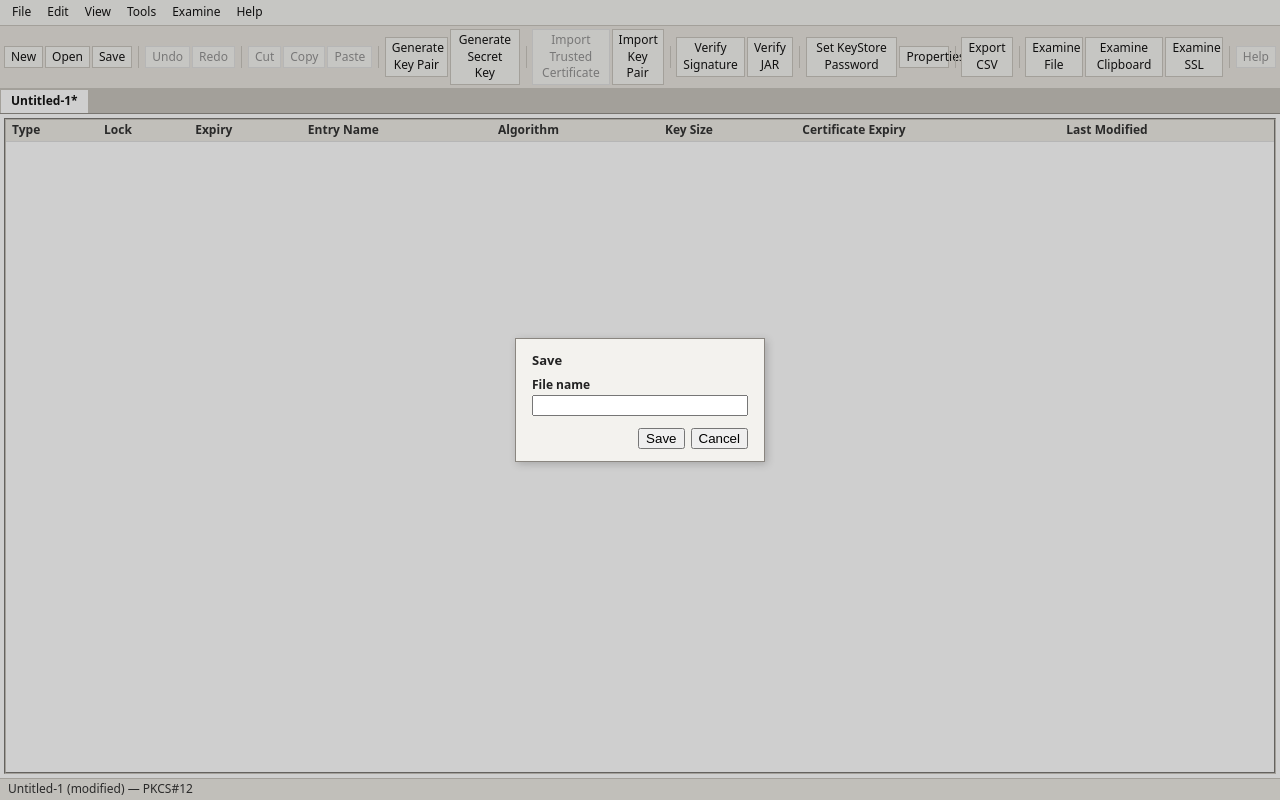
Test: builtin dialog clicks › saves from File → Save As via the Save and New Password buttons
In the field with test id "dialog.file-save.path": (640, 406) 532,396 -> 748,416, type "demo.p12"
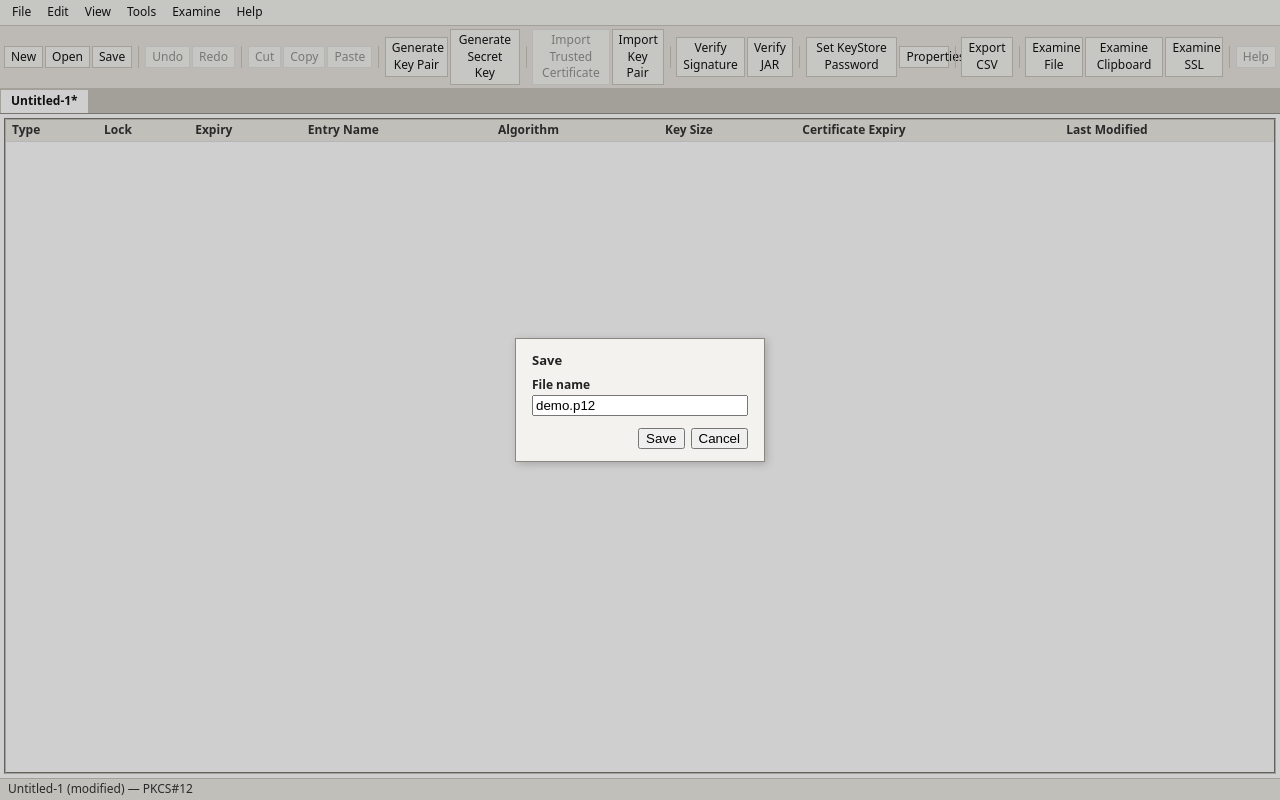
Click the button with test id "dialog.file-save.ok": (661, 439) 638,428 -> 684,450
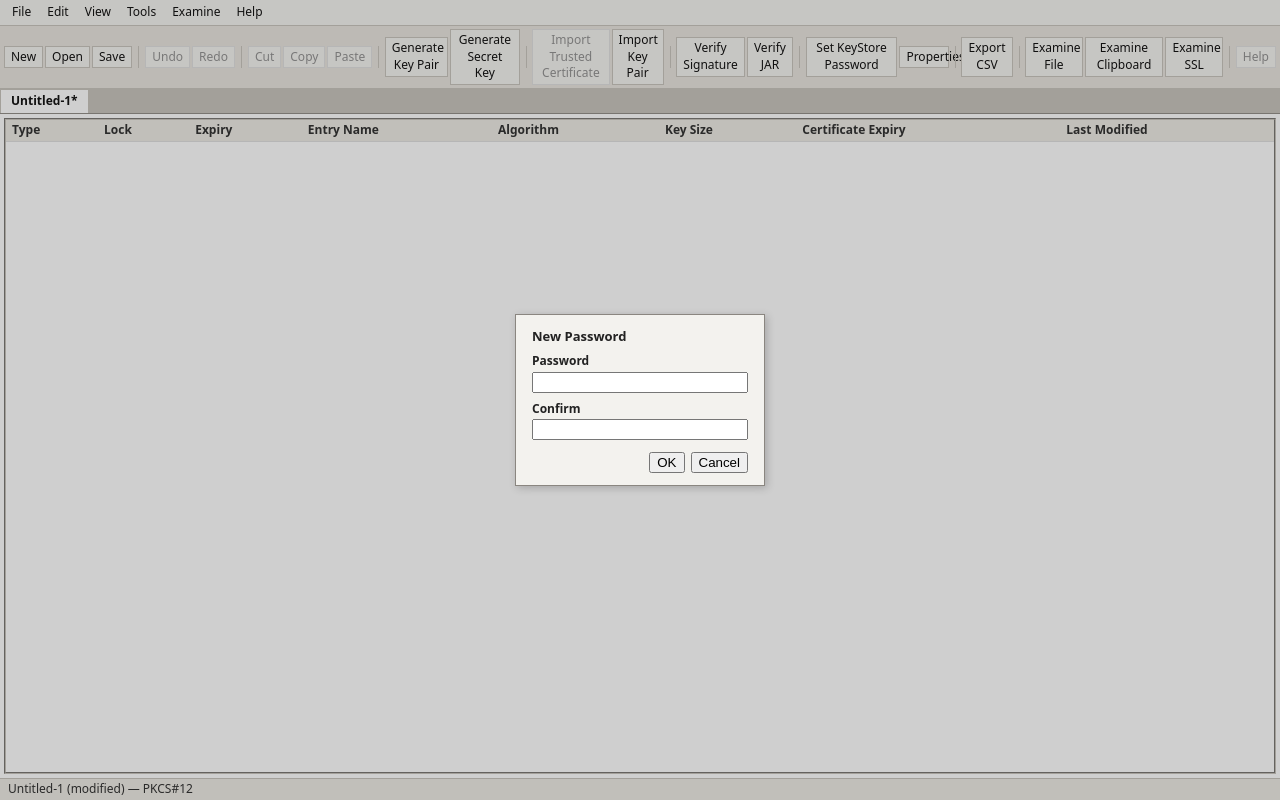
In the password field with test id "dialog.new-password.value": (640, 382) 532,372 -> 748,393, type "password"
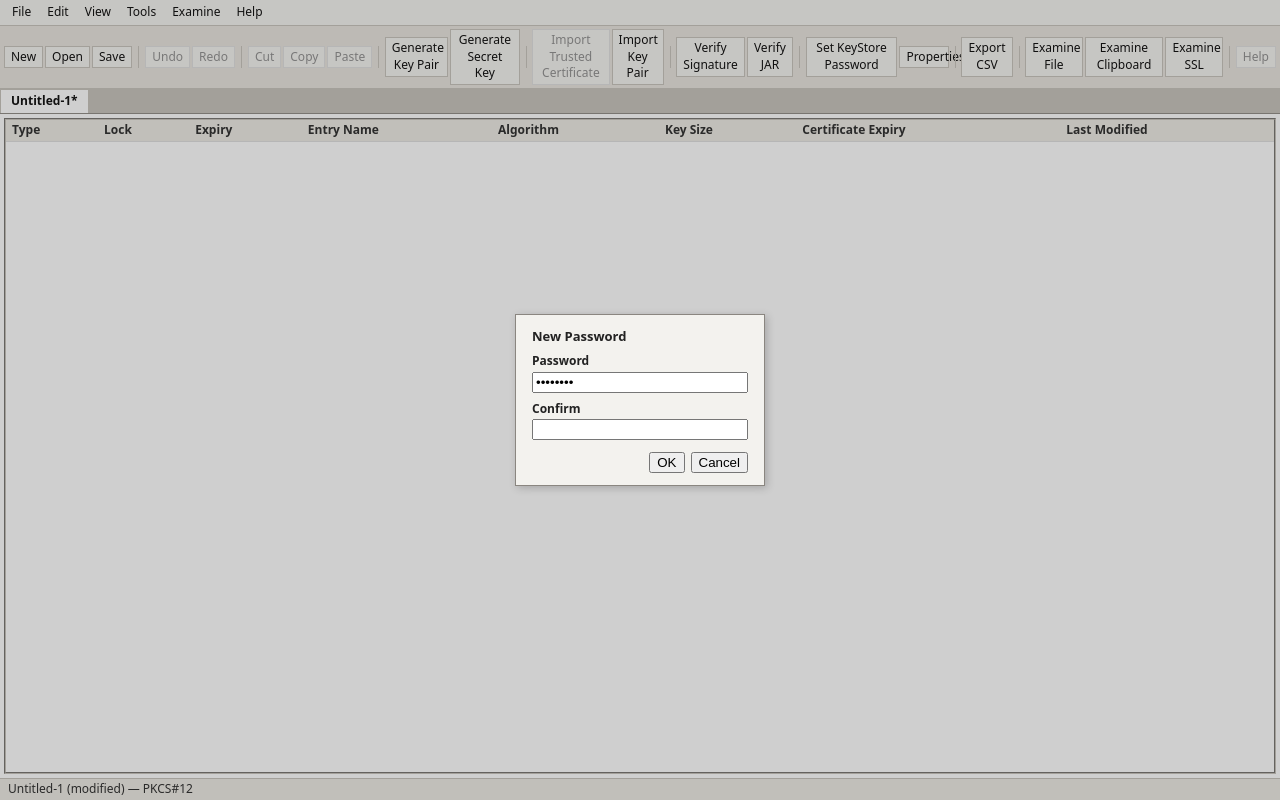
In the password field with test id "dialog.new-password.confirm": (640, 430) 532,419 -> 748,440, type "password"
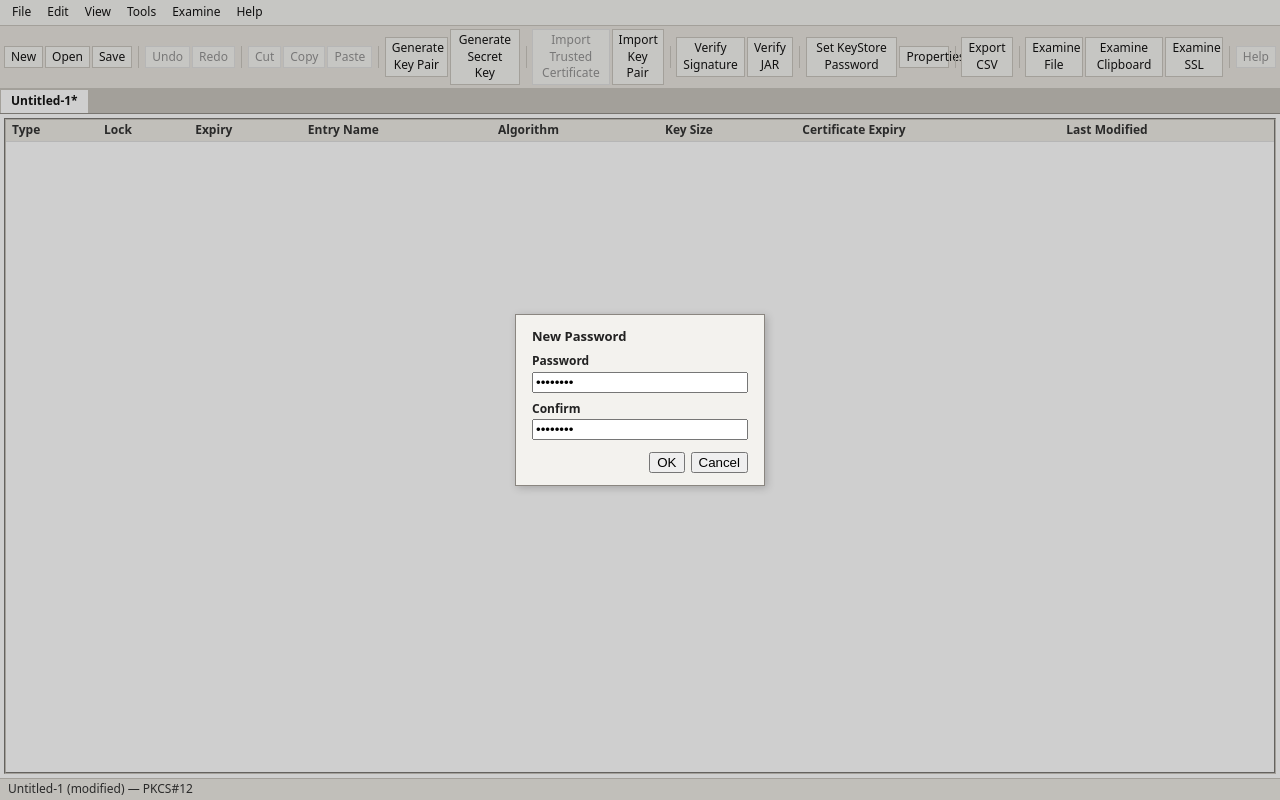
Click the button with test id "dialog.new-password.ok": (667, 463) 649,452 -> 684,473
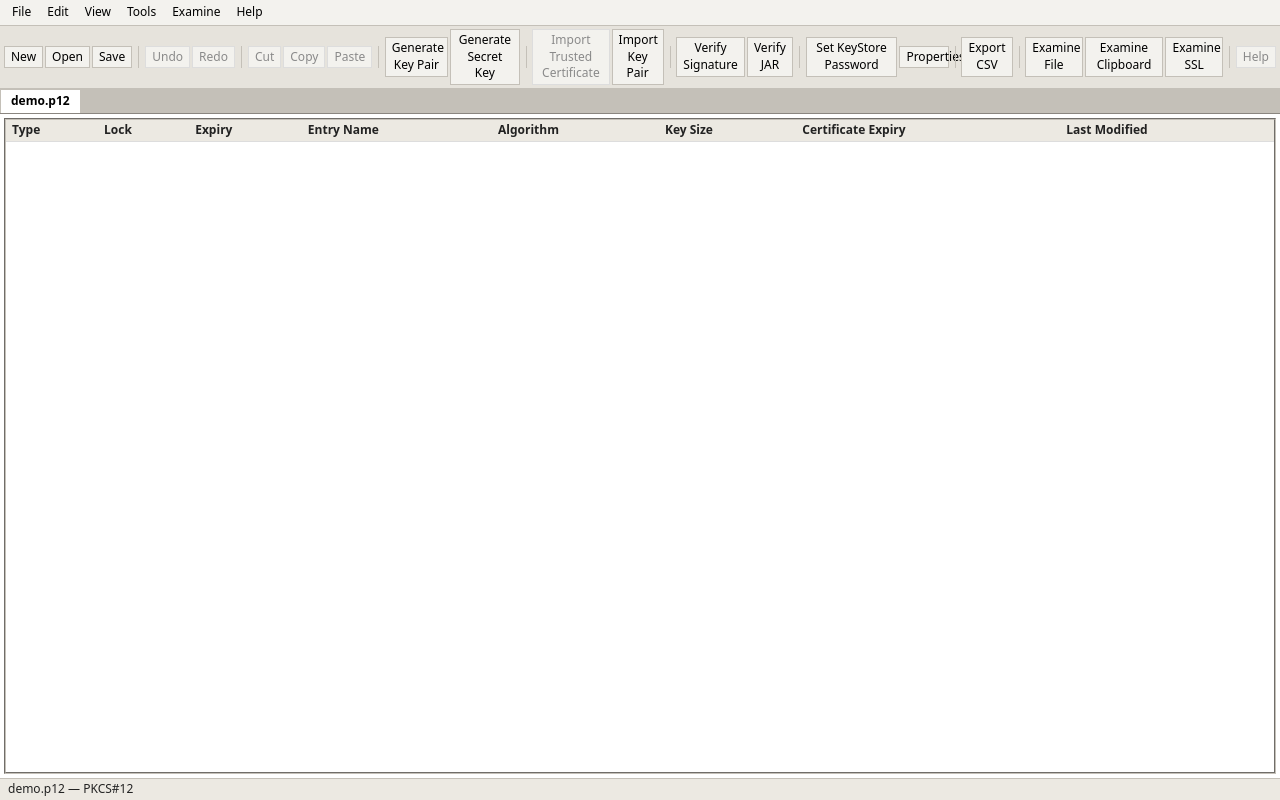
Result: the tab "demo.p12" is shown at 0,89 -> 81,113
